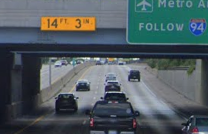1: (44, 17, 51, 30)
3: (73, 17, 83, 30)
4: (50, 16, 58, 31)
overheadsign: (39, 16, 96, 32)
